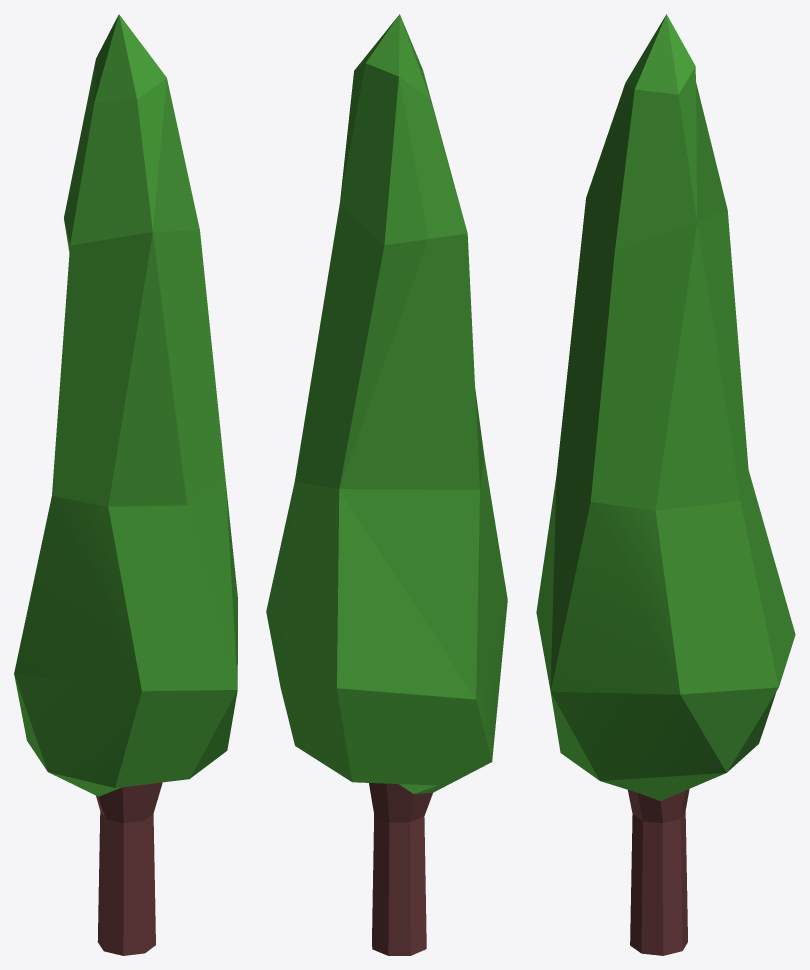
The model's file is SM_pine_tree1.fbx.
3 views of the same model, side by side, from view 1: azimuth 30°, elevation 25°; view 2: azimuth 150°, elevation 25°; view 3: azimuth 270°, elevation 25° (orthographic).
Parts seen in each view (by area): view 1: SM_Env_Tree_02; view 2: SM_Env_Tree_02; view 3: SM_Env_Tree_02.
Part boxes in pixels (<box>): SM_Env_Tree_02: <box>14,14,237,955</box>; SM_Env_Tree_02: <box>266,14,507,955</box>; SM_Env_Tree_02: <box>536,14,795,955</box>.
Bounding box in the file's own units: 91.25 × 374 × 94.74.
